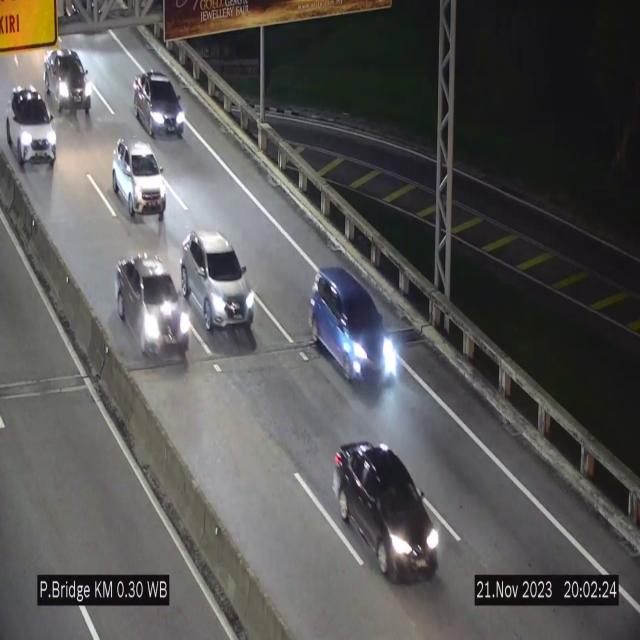Car: (333, 440, 439, 581), (305, 266, 395, 388), (181, 232, 257, 358), (114, 255, 191, 364), (112, 138, 166, 218), (6, 88, 56, 169), (42, 44, 94, 119), (134, 71, 185, 139)
